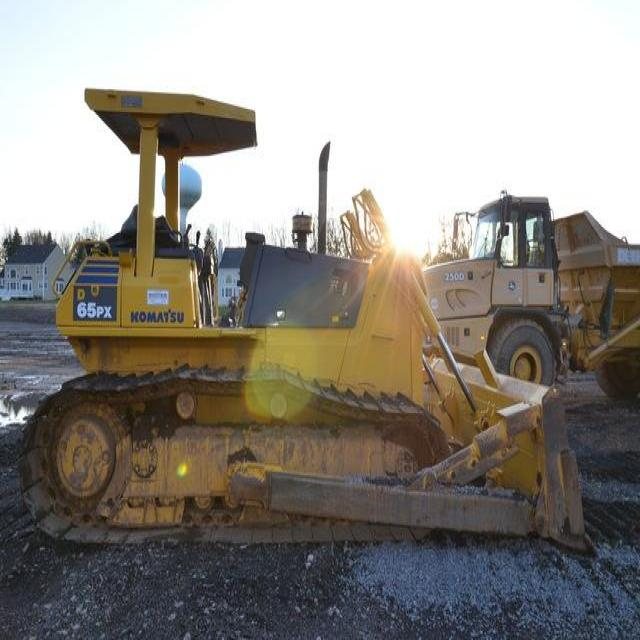Bulldozer: (13, 72, 600, 560)
